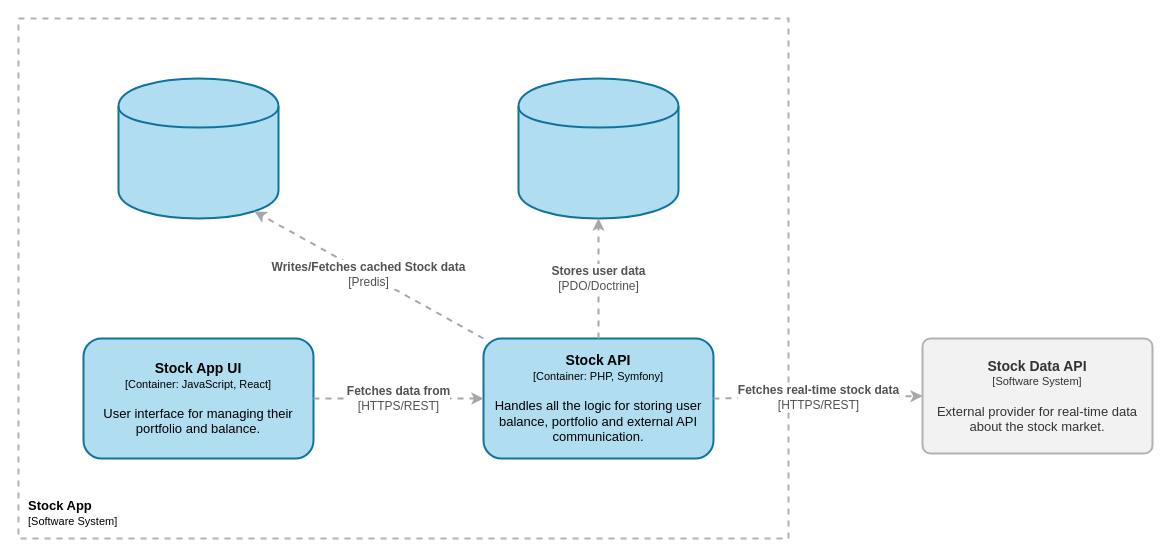
Image size: 1170x556. Some labels were removed from this diagram. Each missing label, with the centre of its shape:
Cache [Container: Redis] Cache layer for stock data.: point 198,148
Database [Container: SQLite DB] Application data storage.: point 598,148
